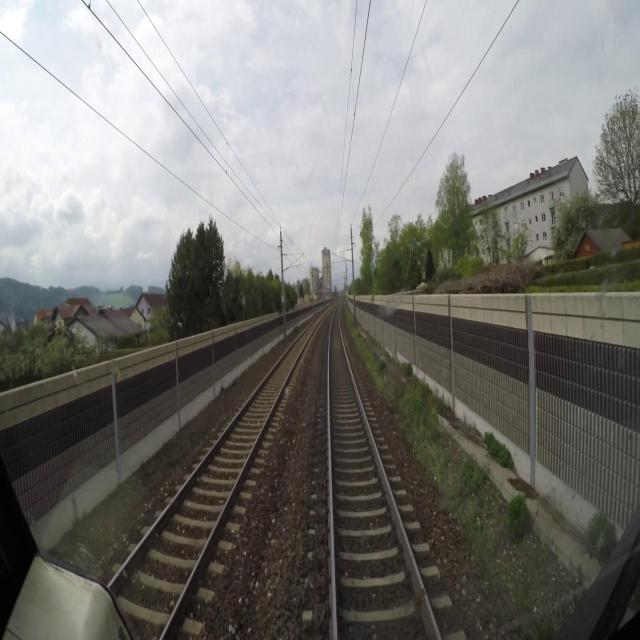rail-track: (112, 318, 319, 639), (329, 302, 437, 639)
